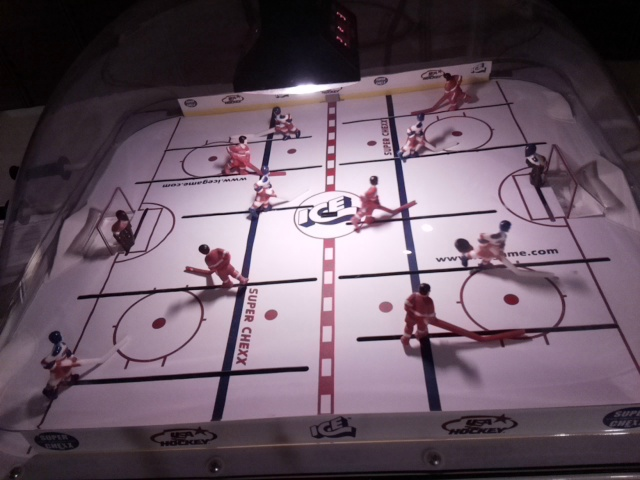puck: (455, 237, 470, 251)
